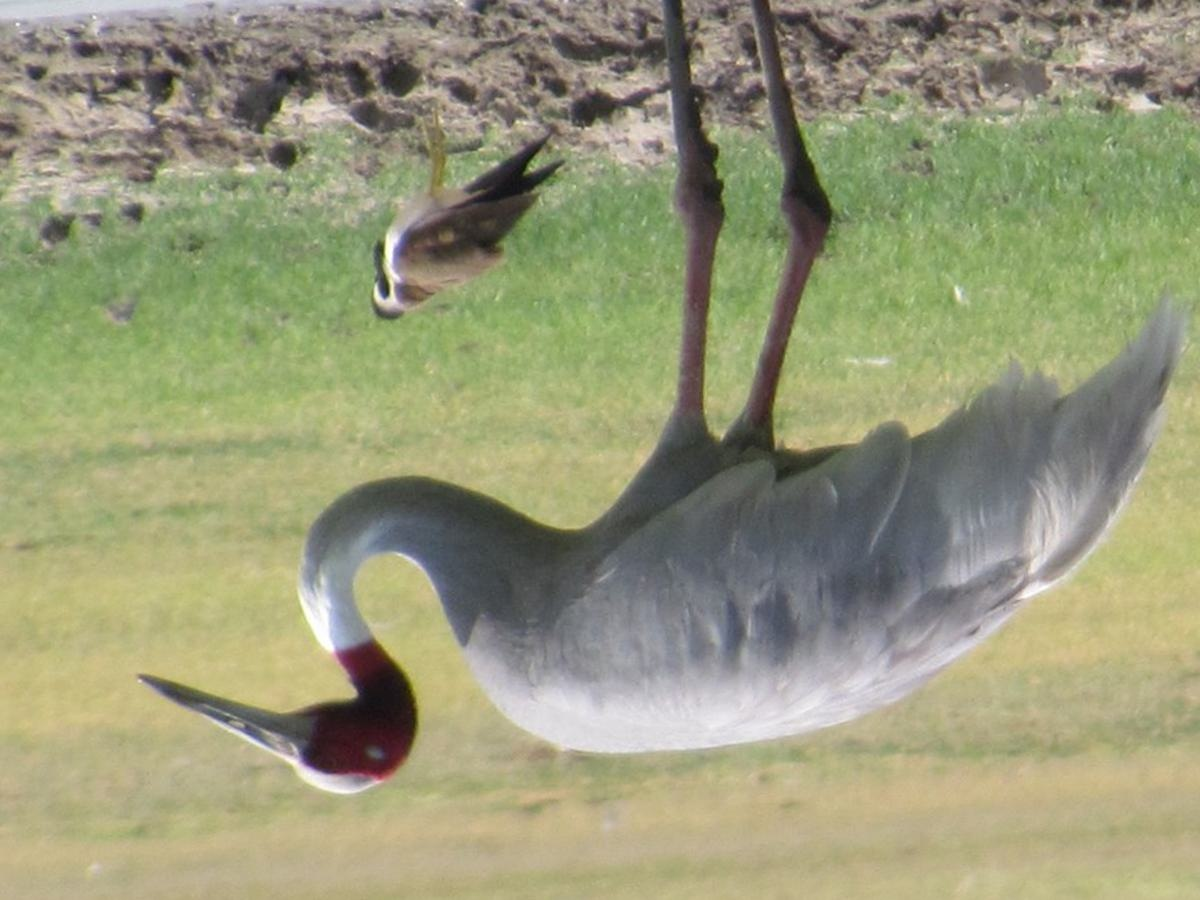crane: (127, 1, 1200, 795)
